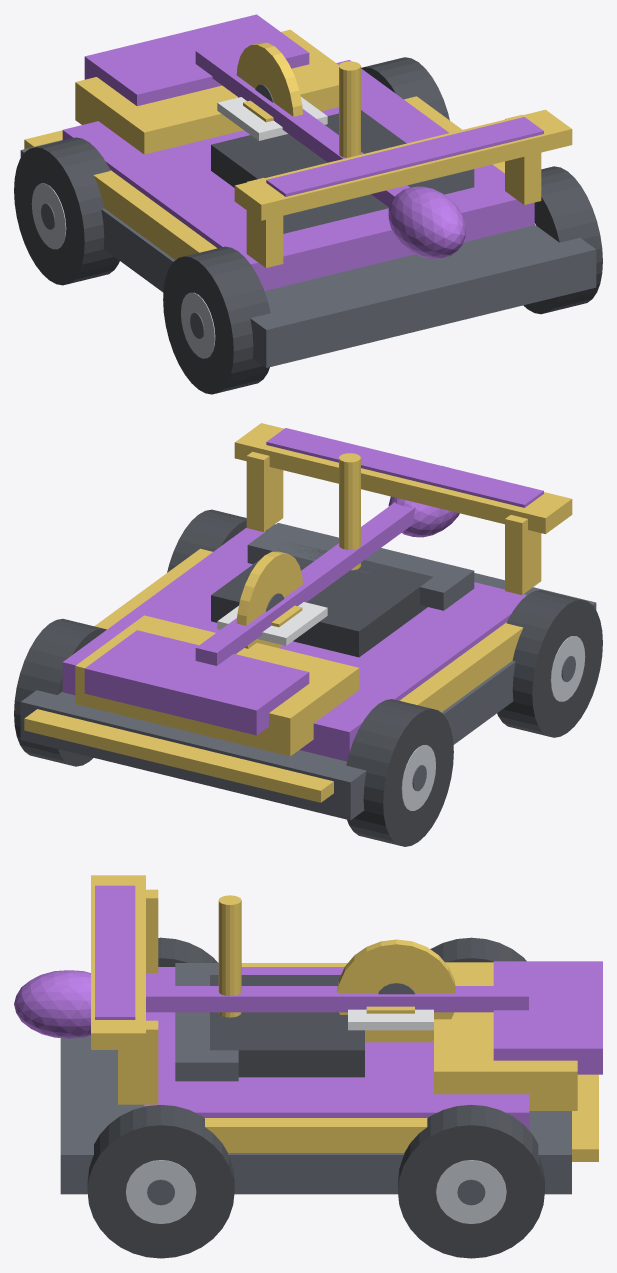
File: comet.glb
3 renders of one model, top to bottom at view 1: azimuth 30°, elevation 25°; view 2: azimuth 150°, elevation 25°; view 3: azimuth 270°, elevation 25°, orthographic. The views are drawn at different scales.
Visible parts, largest first — view 1: part_0, part_1, part_19, part_16, part_2, part_3, part_11, part_33, part_4, part_25, part_32, part_9 (+11 smaller); view 2: part_1, part_0, part_3, part_2, part_16, part_19, part_4, part_28, part_11, part_31, part_33, part_5 (+12 smaller); view 3: part_1, part_0, part_22, part_25, part_3, part_4, part_2, part_31, part_10, part_8, part_33, part_32 (+13 smaller).
Boxes of the visible parts, left/top/right/bottom form: part_0: left=20, top=140, right=596, bottom=367; part_1: left=62, top=60, right=534, bottom=290; part_19: left=163, top=246, right=270, bottom=394; part_16: left=14, top=137, right=119, bottom=285; part_2: left=75, top=29, right=338, bottom=154; part_3: left=84, top=14, right=309, bottom=106; part_11: left=234, top=109, right=572, bottom=220; part_33: left=266, top=117, right=543, bottom=196; part_4: left=211, top=110, right=406, bottom=187; part_25: left=523, top=166, right=602, bottom=314; part_32: left=388, top=186, right=465, bottom=258; part_9: left=93, top=170, right=216, bottom=259; part_1: left=62, top=528, right=526, bottom=761; part_0: left=20, top=524, right=596, bottom=820; part_3: left=84, top=630, right=309, bottom=735; part_2: left=75, top=615, right=359, bottom=756; part_16: left=346, top=699, right=453, bottom=846; part_19: left=497, top=590, right=602, bottom=737; part_4: left=211, top=542, right=432, bottom=657; part_28: left=24, top=709, right=333, bottom=802; part_11: left=234, top=423, right=572, bottom=533; part_31: left=195, top=502, right=415, bottom=665; part_33: left=266, top=428, right=543, bottom=507; part_5: left=247, top=523, right=474, bottom=610; part_1: left=144, top=967, right=529, bottom=1130; part_0: left=60, top=1035, right=571, bottom=1194; part_22: left=398, top=1104, right=544, bottom=1258; part_25: left=87, top=1105, right=234, bottom=1258; part_3: left=493, top=961, right=602, bottom=1074; part_4: left=210, top=975, right=364, bottom=1077; part_2: left=434, top=962, right=577, bottom=1110; part_31: left=146, top=986, right=528, bottom=1012; part_10: left=205, top=1118, right=427, bottom=1152; part_8: left=337, top=939, right=455, bottom=1042; part_33: left=95, top=885, right=135, bottom=1019; part_32: left=14, top=970, right=90, bottom=1038.
Size of the model in its own units: 3.89 by 2.54 by 5.12.
